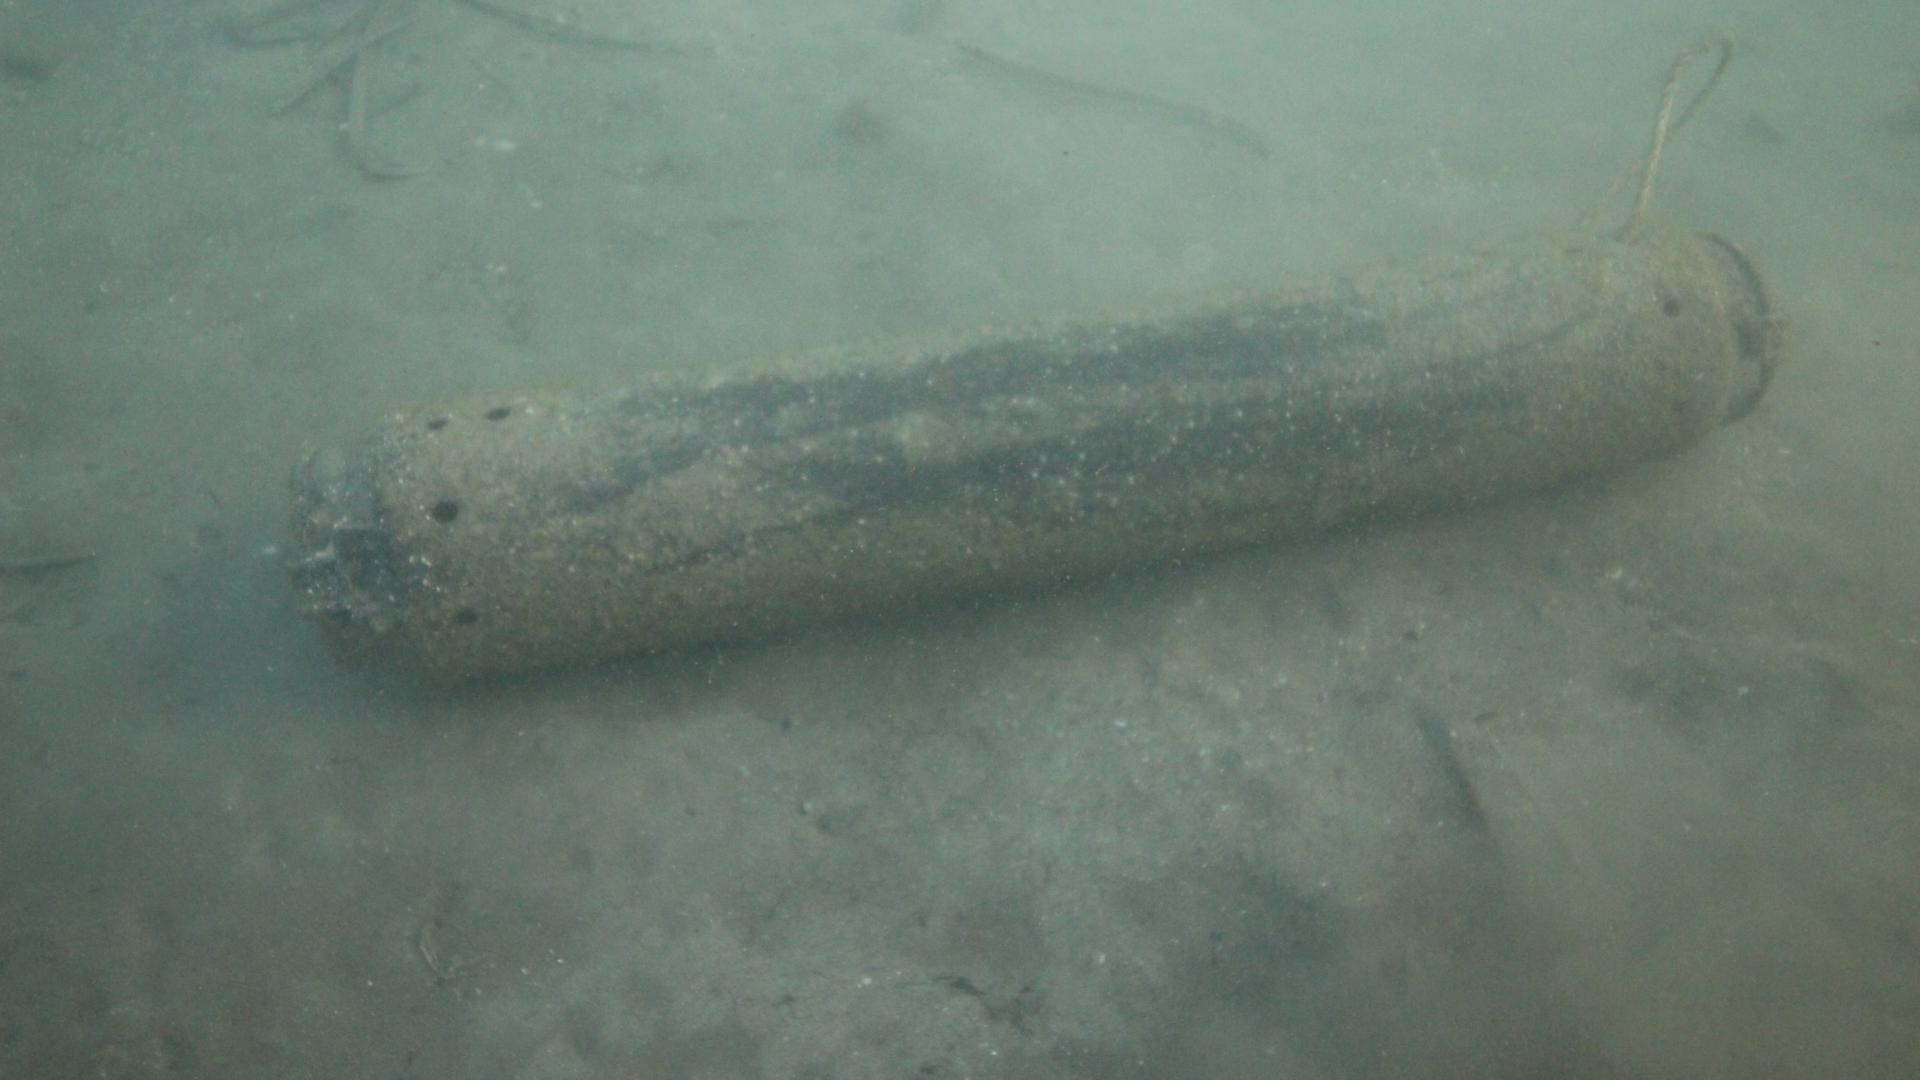eel fish trap: (285, 225, 1774, 691)
rope: (1582, 33, 1735, 231)
